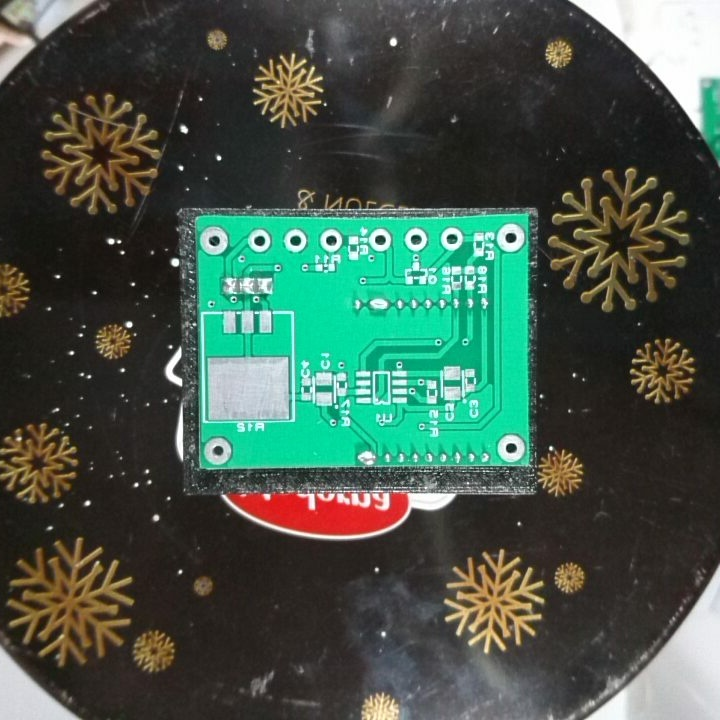F: (197, 225, 231, 258), (494, 220, 526, 255), (495, 433, 527, 465), (201, 435, 234, 466), (245, 226, 273, 255), (318, 226, 345, 254), (282, 226, 308, 255), (439, 226, 465, 252), (368, 226, 393, 253), (404, 227, 430, 252)
P: (366, 295, 391, 315), (354, 448, 379, 468)
